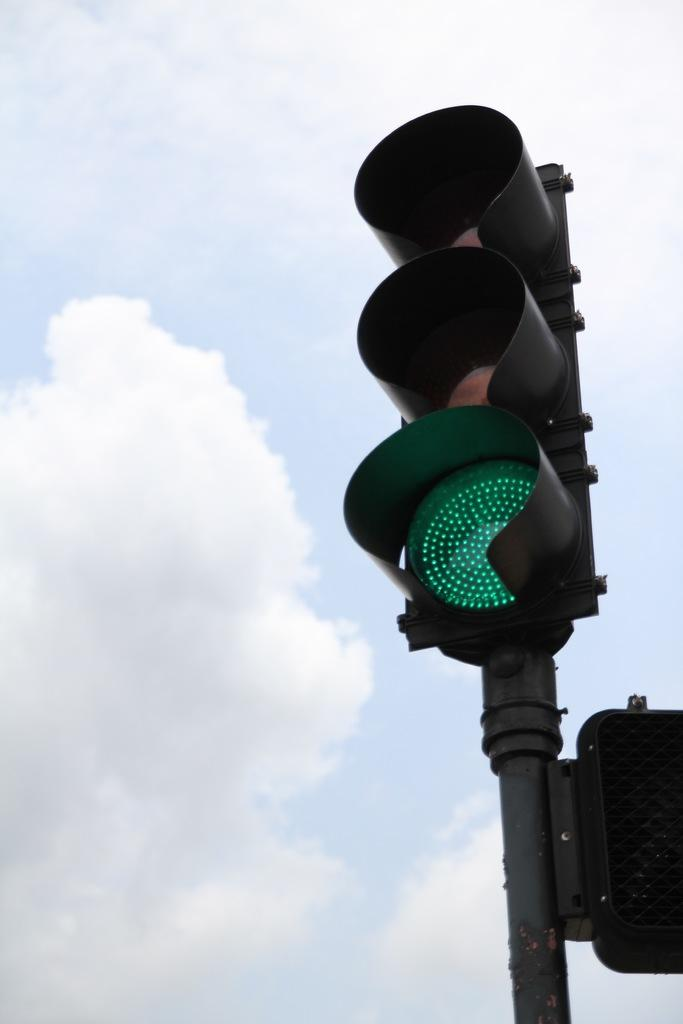green_light: (343, 104, 609, 653)
